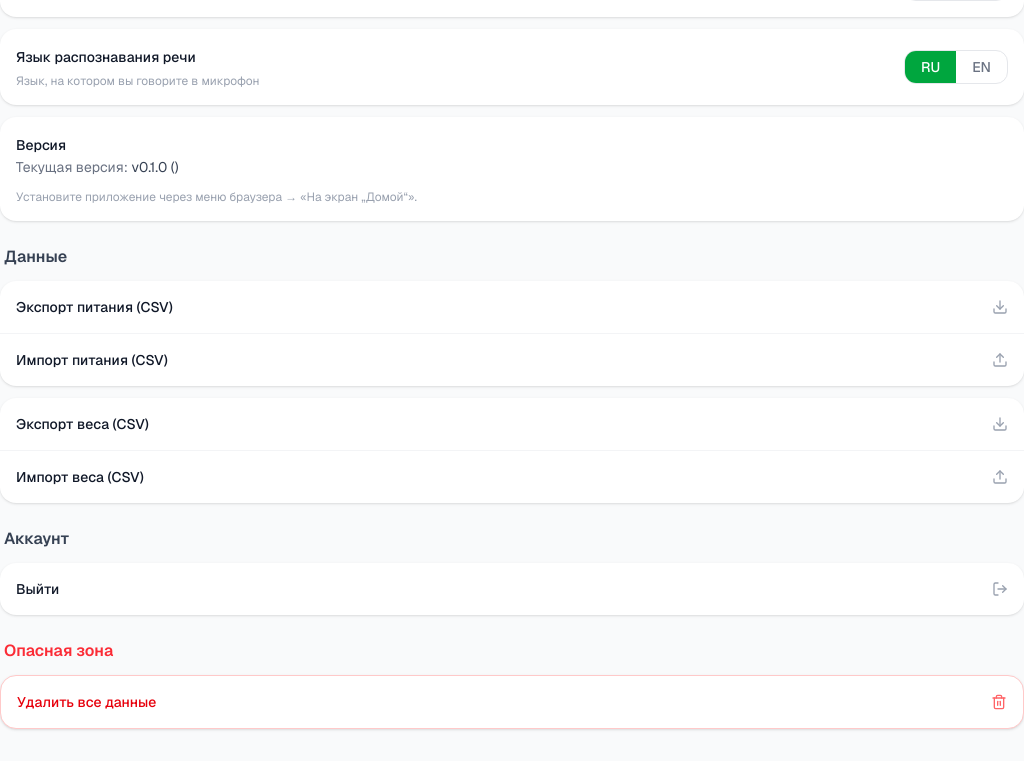
Test case: SettingsClient › deleteAll_ShouldHideConfirmDialog_WhenCancelClicked
The image size is (1024, 761).
(page scrolled)
Click the button "Удалить все данные". click: (87, 702)
box: x1=0 y1=675 x2=1023 y2=729
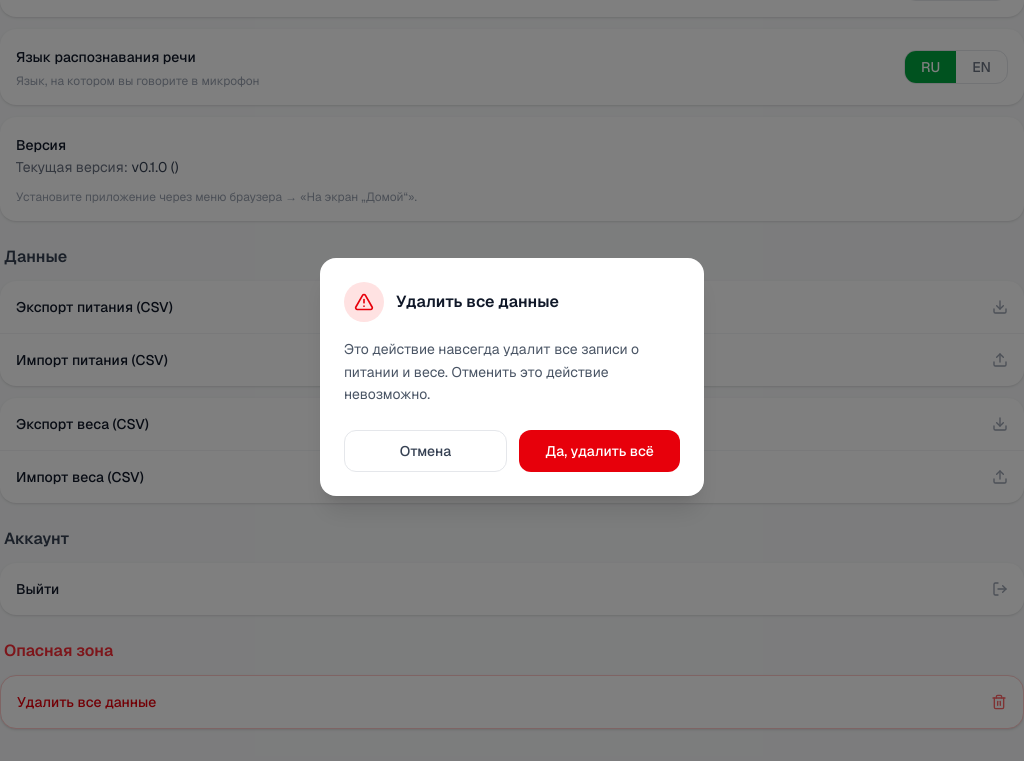
Click the button "Отмена". click: (426, 451)
box: x1=344 y1=430 x2=507 y2=472
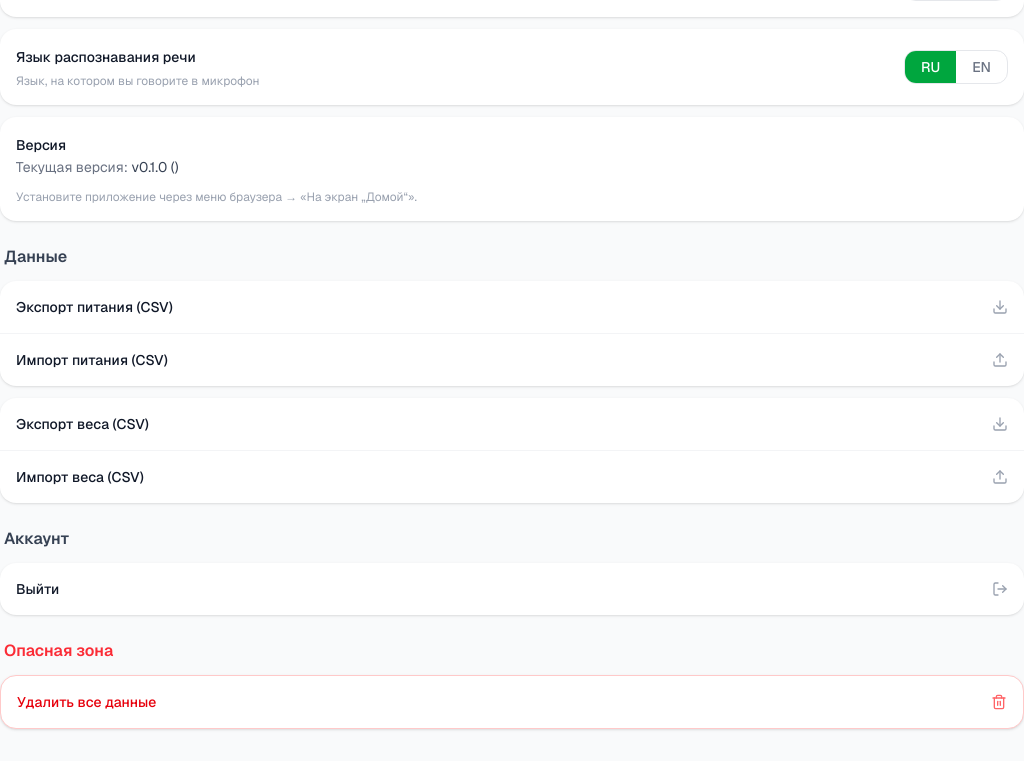
Now the button "Да, удалить всё" is gone
